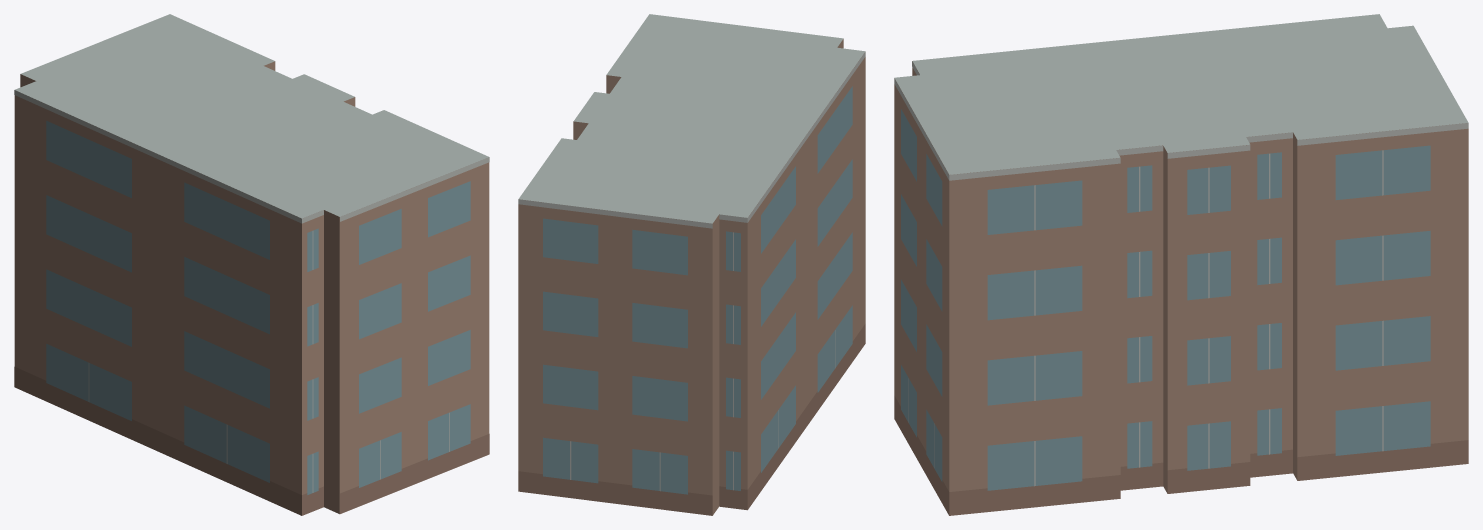
The model's file is survey-upis-32668006.glb.
3 views of the same model, side by side, from view 1: azimuth 30°, elevation 25°; view 2: azimuth 150°, elevation 25°; view 3: azimuth 270°, elevation 25° (orthographic). The views are drawn at different scales.
Visible parts, largest first — view 1: survey-upis-32668006.tmp; view 2: survey-upis-32668006.tmp; view 3: survey-upis-32668006.tmp.
Part boxes in pixels (x1,y1,x2,y2): survey-upis-32668006.tmp: (14,14,489,515); survey-upis-32668006.tmp: (518,14,865,515); survey-upis-32668006.tmp: (894,14,1468,515).
Bounding box in the file's own units: 14.38 × 14.2 × 21.68.
